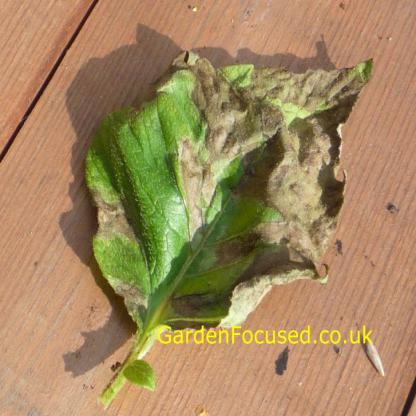potato leaf early blight: (78, 47, 380, 343)
